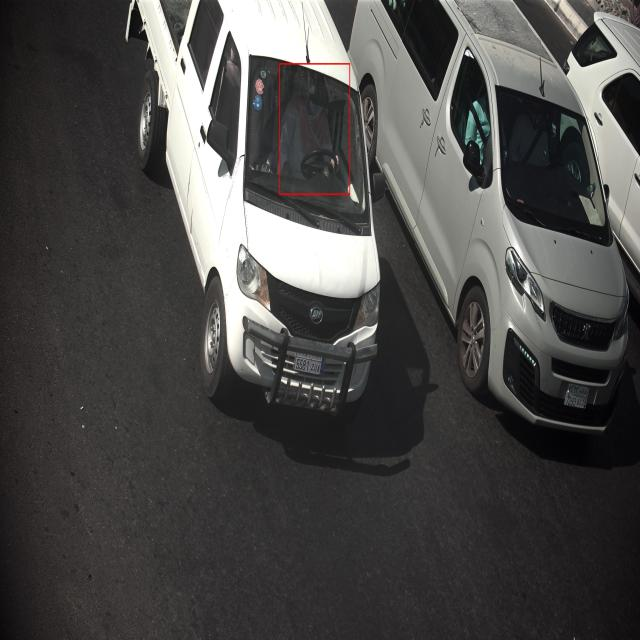windshield: (244, 43, 376, 240), (484, 71, 616, 255)
